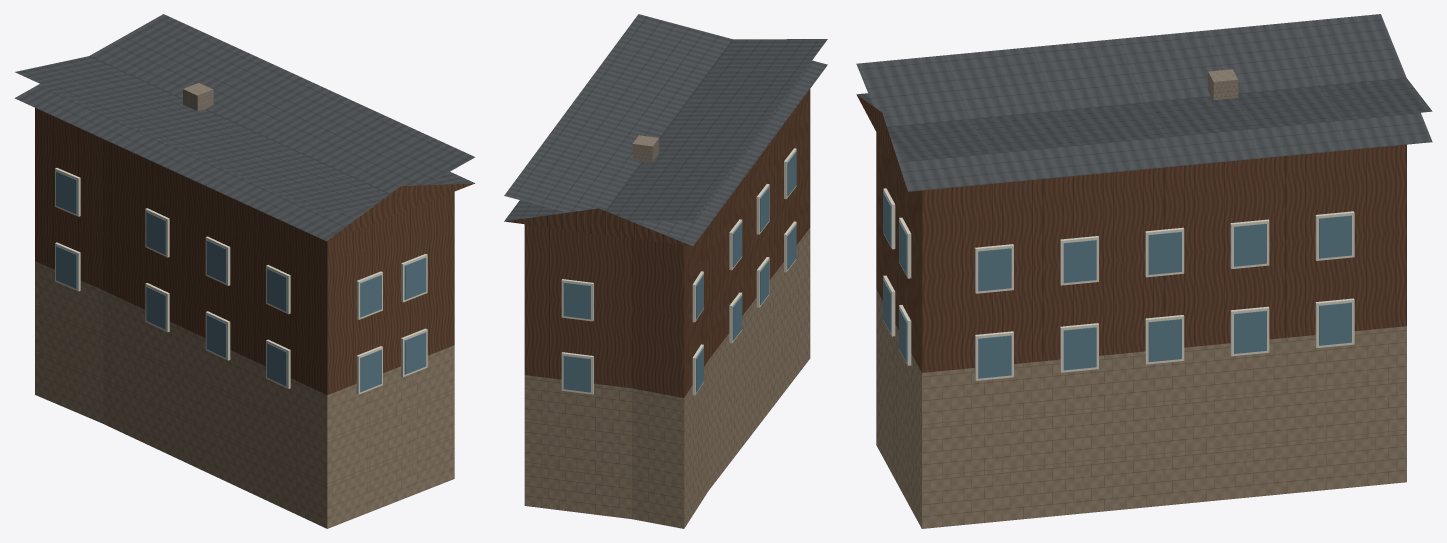
File: core_0058.gltf
The picture shows the model from 3 angles, left to right: view 1: azimuth 30°, elevation 25°; view 2: azimuth 150°, elevation 25°; view 3: azimuth 270°, elevation 25°; orthographic projection. The views are drawn at different scales.
Visible parts, largest first — view 1: core_0058; view 2: core_0058; view 3: core_0058.
Part boxes in pixels (x1,y1,x2,y2): core_0058: [15, 14, 475, 528]; core_0058: [504, 14, 827, 528]; core_0058: [856, 14, 1432, 528].
Size of the model in its own units: 10.33 by 12.45 by 17.08.
6 materials, 6 textured.
